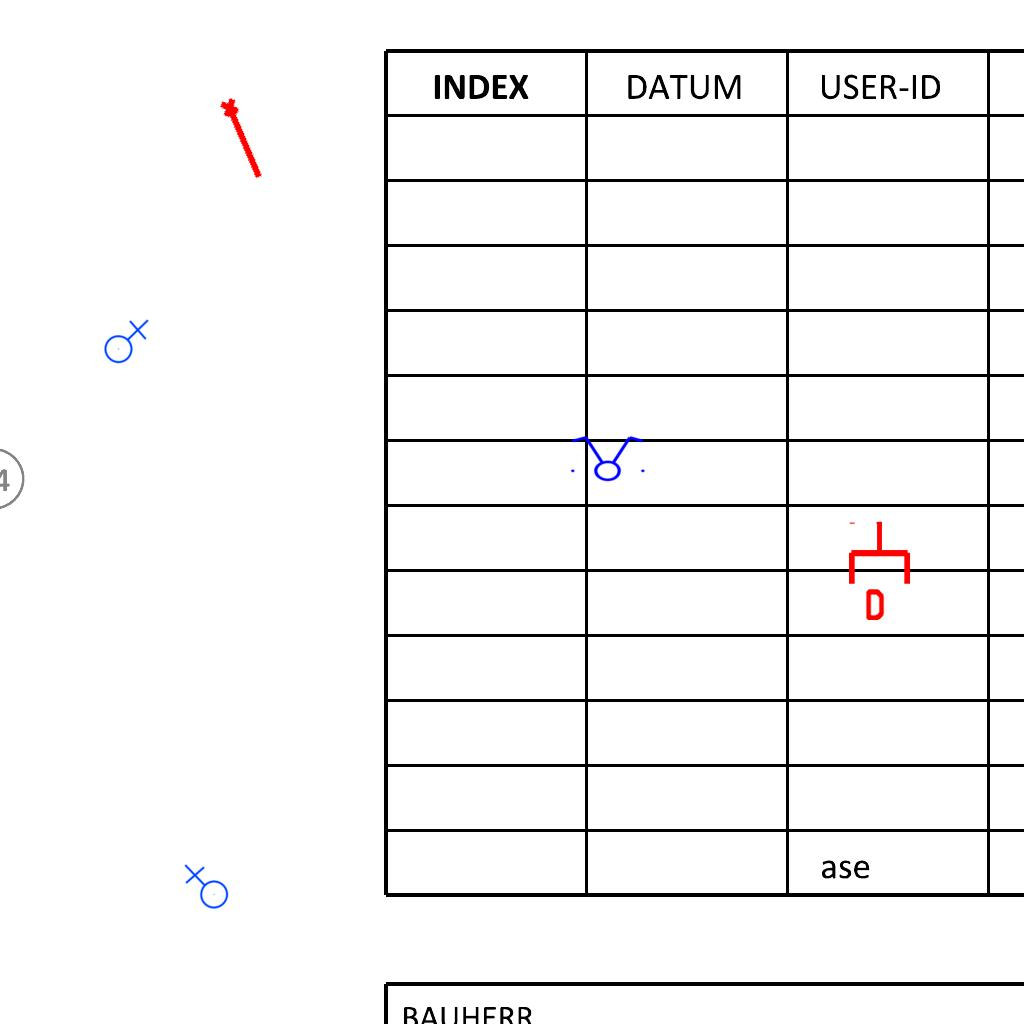ASR_Ansaugoeffnung: (216, 93, 272, 184)
Datenanschluss_einfach: (845, 520, 914, 620)
Elektroanschluss_allgemein_230V_Geraeteanschlussdose_230V: (100, 317, 149, 364), (182, 864, 229, 913)
Serienschalter: (565, 434, 649, 482)
